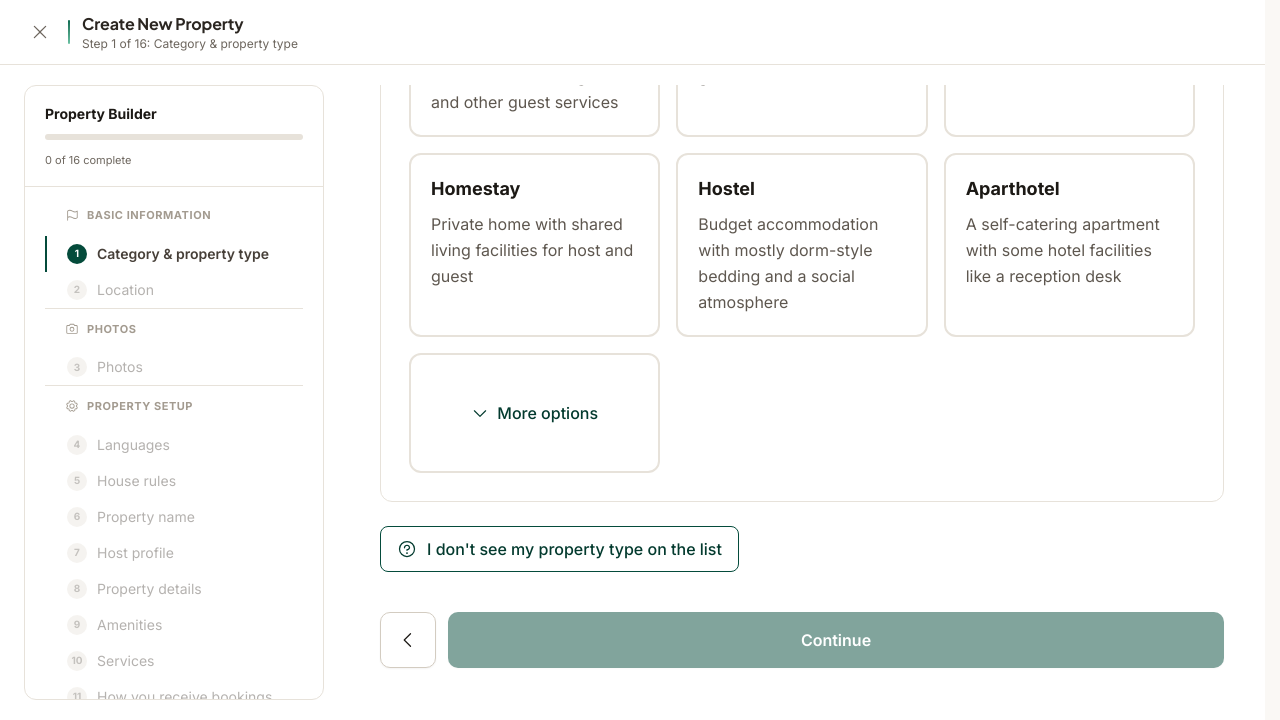
Test: PropertyHotelCategoryPage — the full category list › expands to every reference category and collapses again
The width and height of the screenshot is (1280, 720).
(page scrolled)
Step 1. Click the button "More options" → point(535, 413), box [459, 393, 610, 433]
(page scrolled)
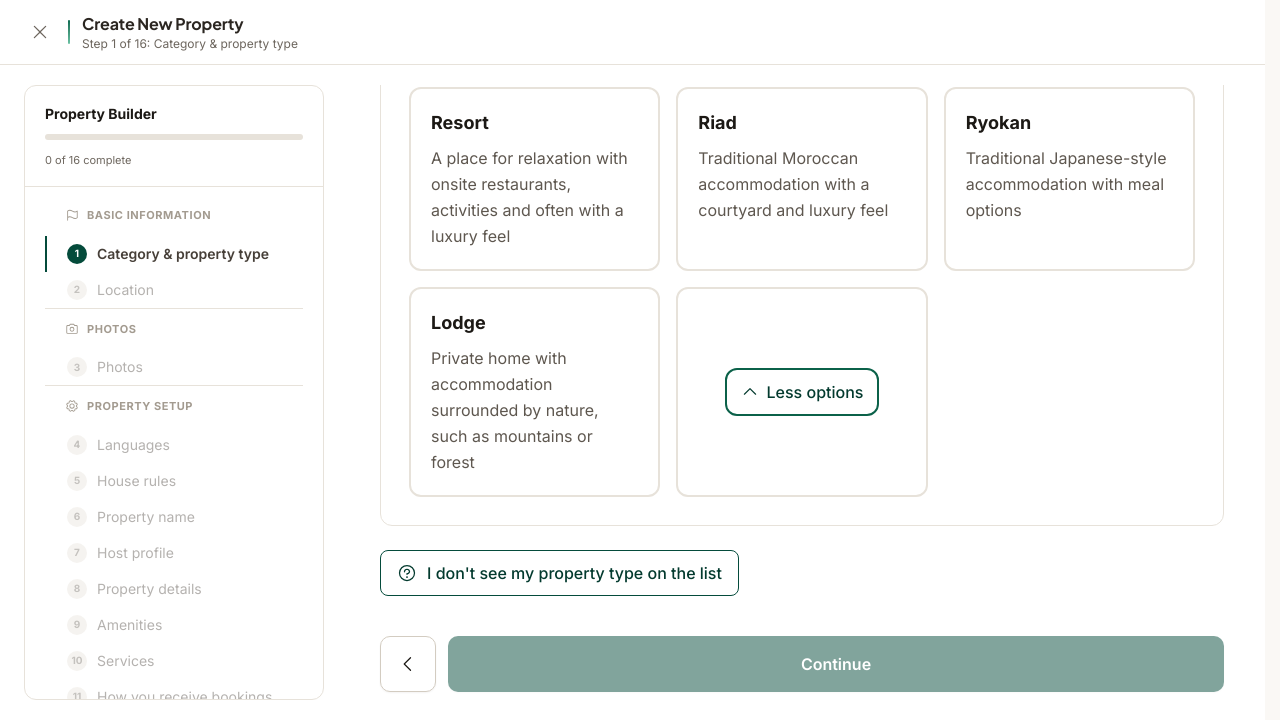
Now the text "Resort" is shown, box [431, 112, 489, 133]
Now the text "Riad" is shown, box [698, 112, 737, 133]
Now the text "Ryokan" is shown, box [966, 112, 1031, 133]
Step 2. Click the button "Less options" → point(802, 392), box [728, 372, 875, 412]
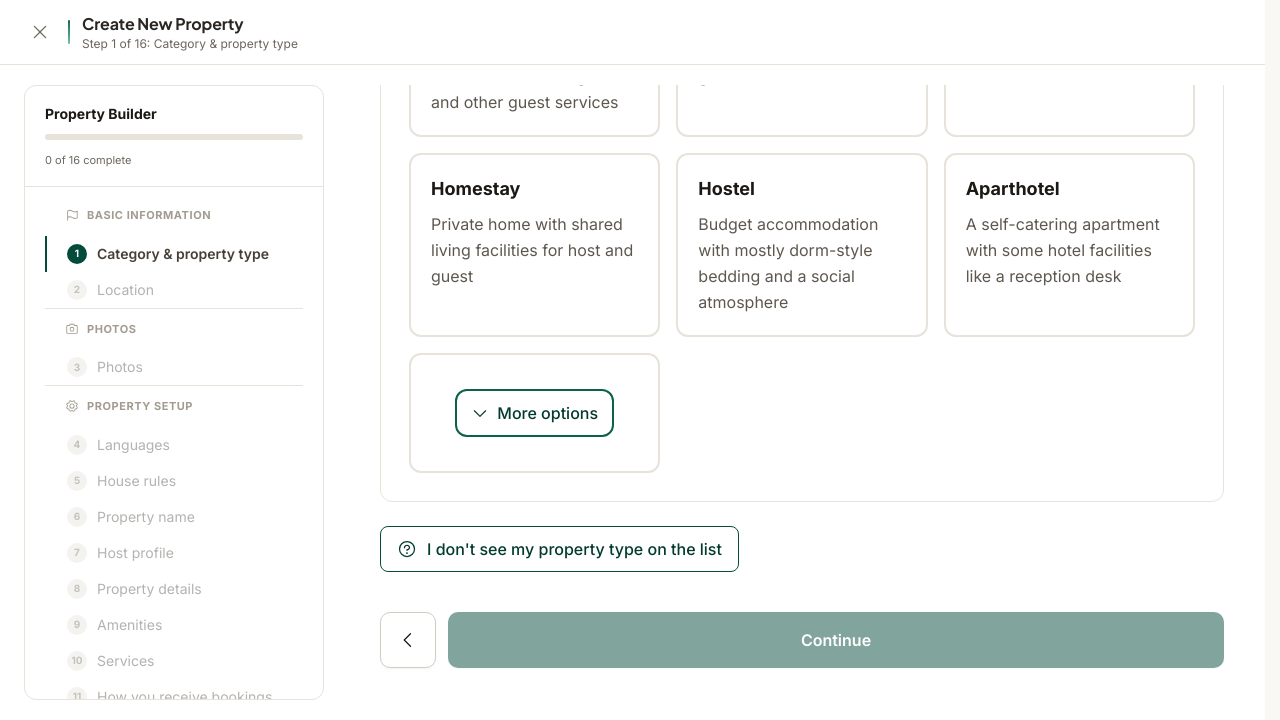
Now the text "Lodge" is gone
Now the button "More options" is shown, box [459, 393, 610, 433]
